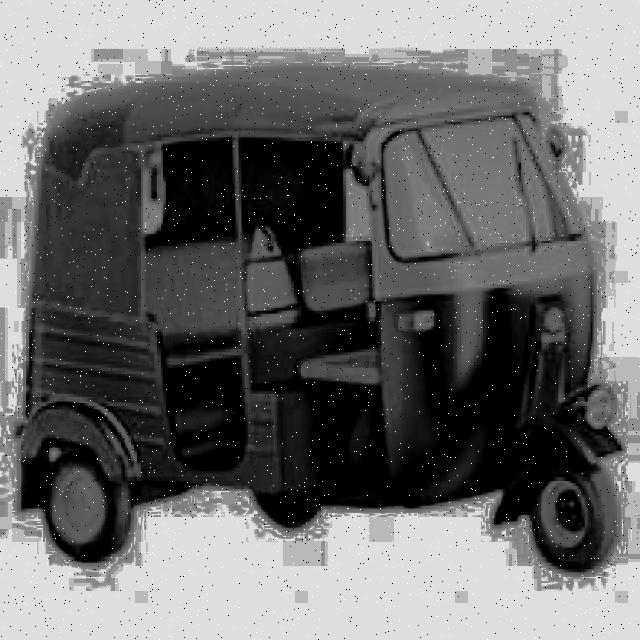Auto-Rickshaw: (18, 65, 630, 589)
